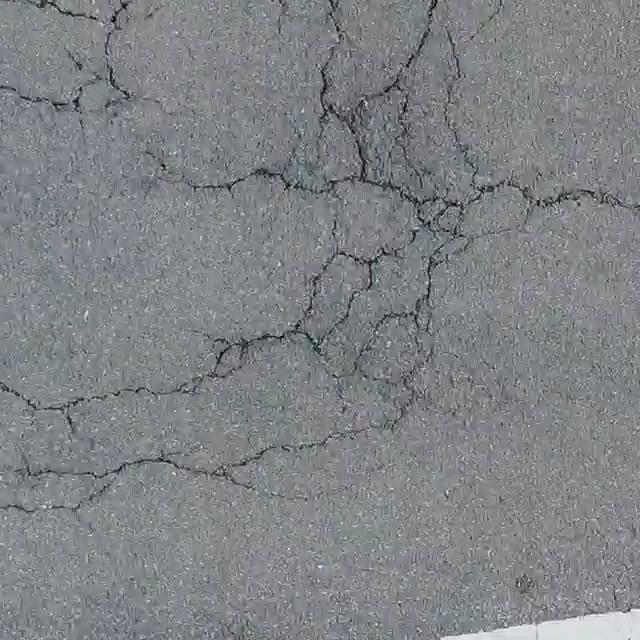GRIETA: (142, 148, 270, 190), (0, 77, 104, 112), (103, 0, 136, 100), (547, 188, 639, 216), (35, 0, 108, 25)
PIEL DE COCODRILO: (0, 0, 548, 519)
